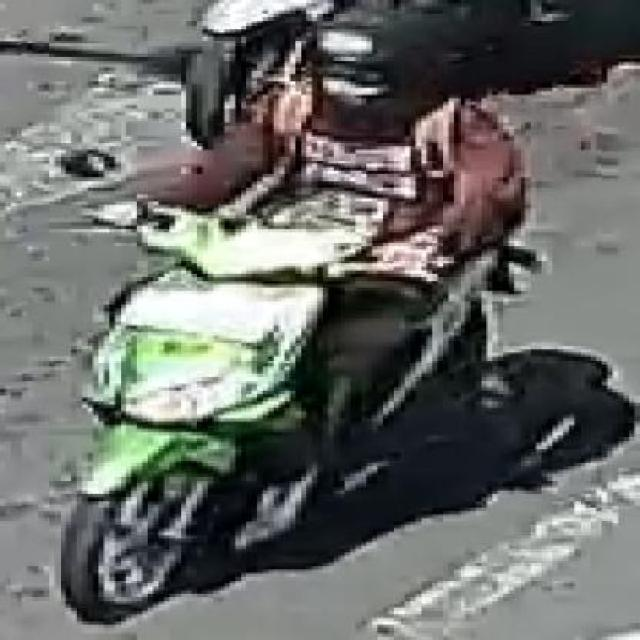helmet: (281, 3, 453, 162)
motorcycle: (20, 0, 537, 640)
